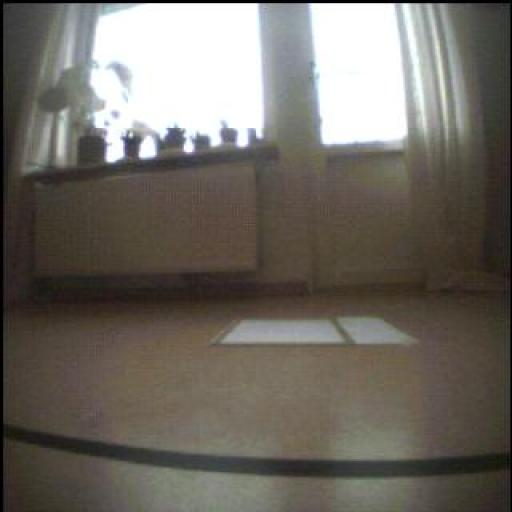Pad: (201, 311, 429, 349)
